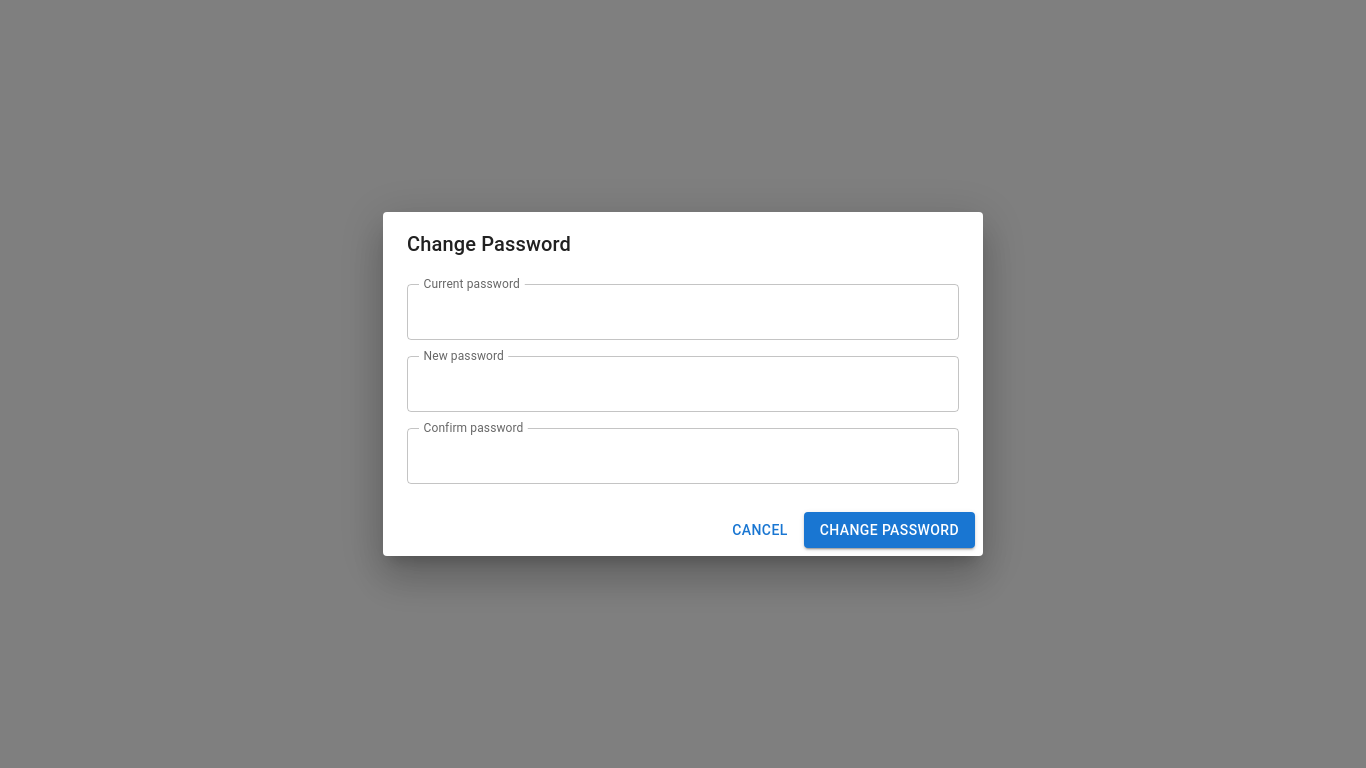
ChangePasswordDialog › shows error when current password is empty
The image size is (1366, 768).
Type "newpass1" into the password field labelled "New password" at (683, 384), box [407,356,959,412]
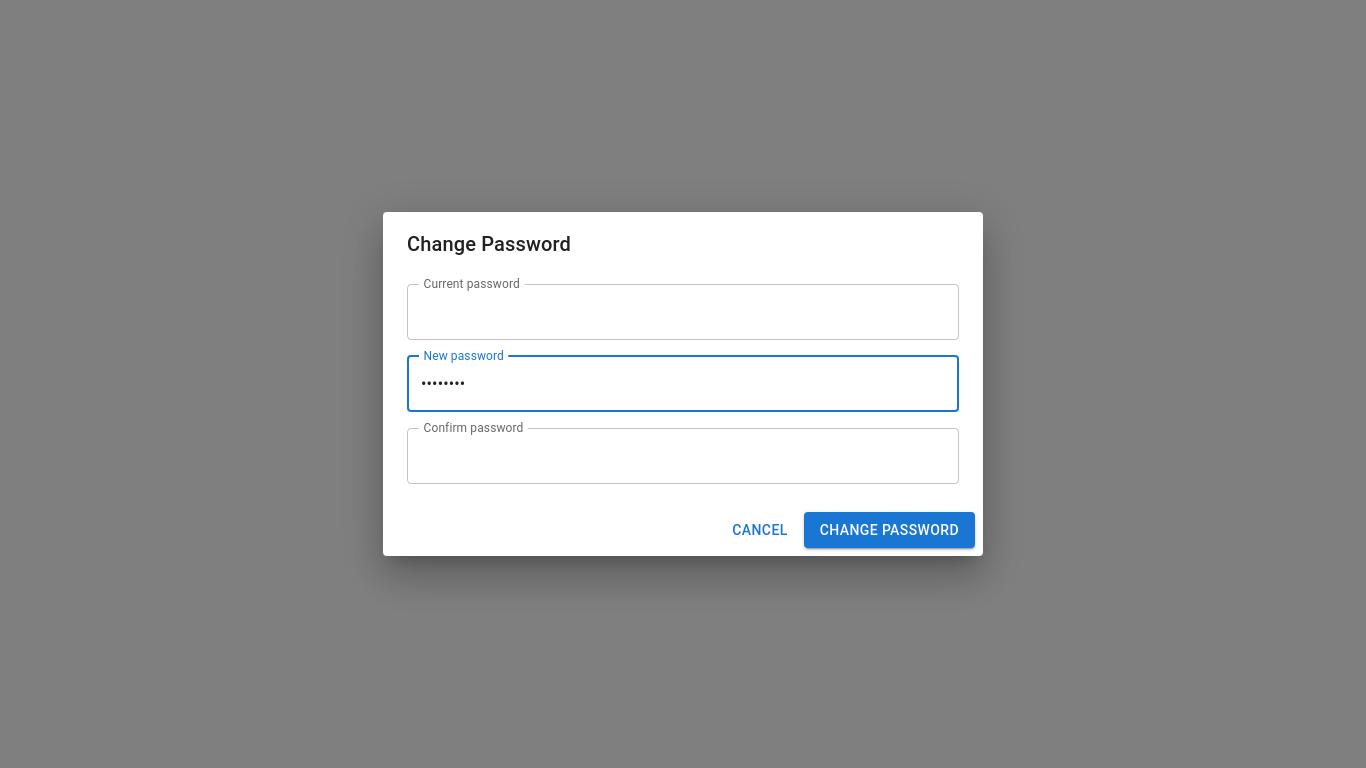
Type "newpass1" into the password field labelled "Confirm password" at (683, 456), box [407,428,959,484]
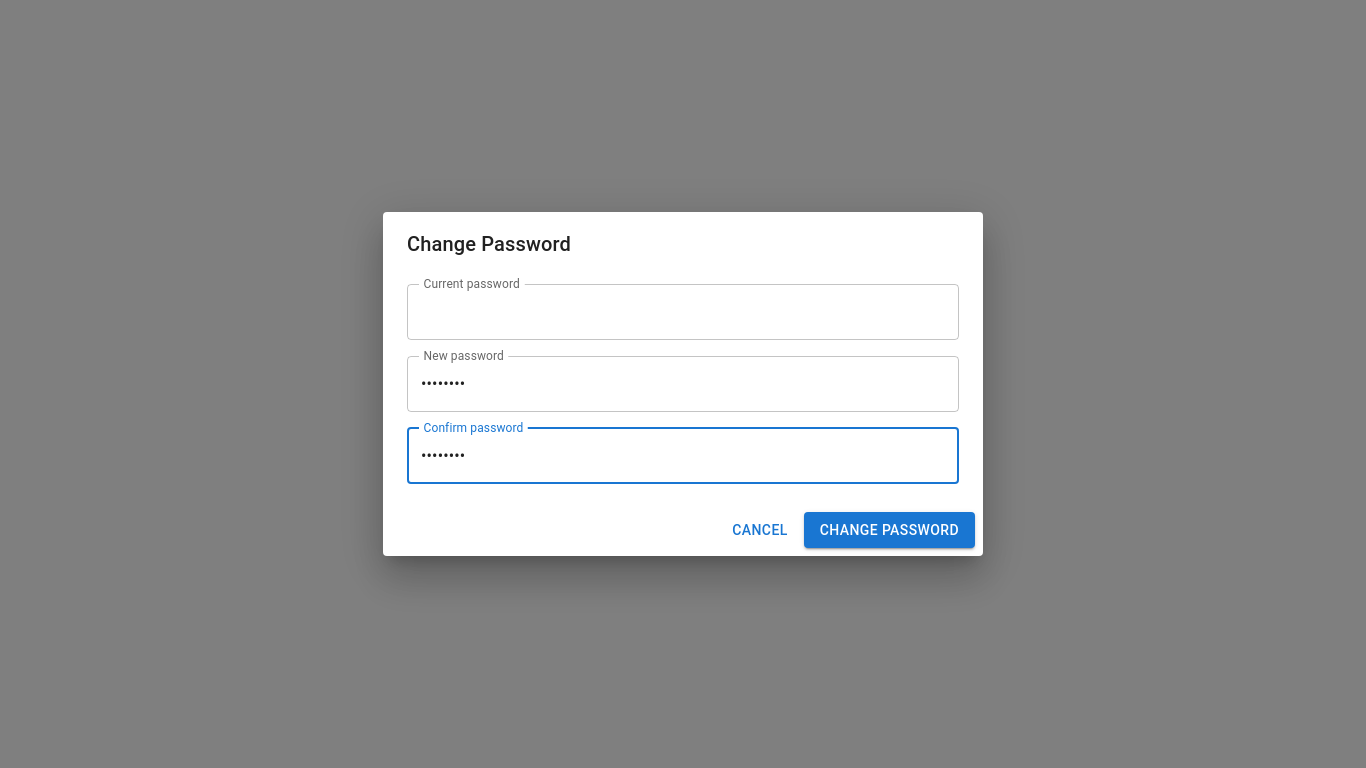
Click the button "Change Password" at (889, 530), box [804,512,975,548]
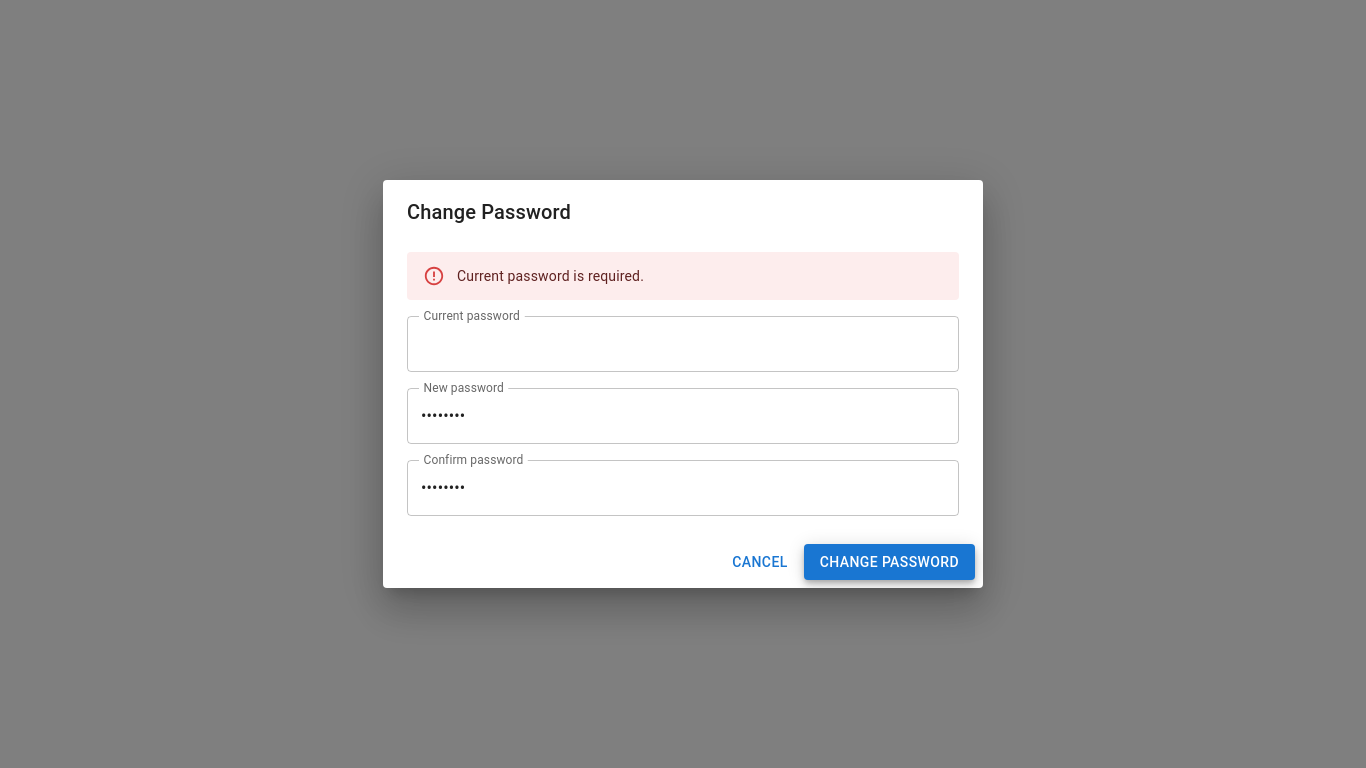
Check: the message shows "Current password is required", box [457,268,644,284]
